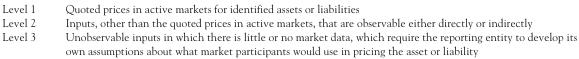table: (1, 1, 576, 56)
table column: (49, 1, 576, 56), (1, 1, 49, 56)
table row: (1, 28, 576, 56), (1, 14, 576, 28), (1, 1, 576, 14)
